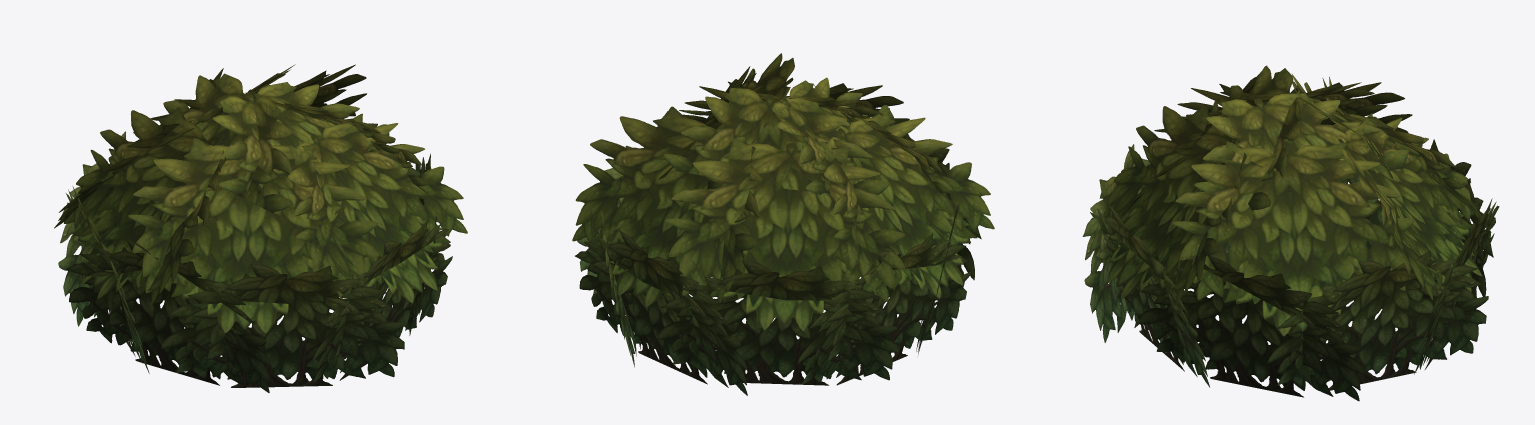
File: mesh_qingming_bush01.FBX
3 renders of one model, left to right at view 1: azimuth 30°, elevation 25°; view 2: azimuth 150°, elevation 25°; view 3: azimuth 270°, elevation 25°, orthographic. The views are drawn at different scales.
Parts seen in each view (by area): view 1: mesh_qingming_bush01; view 2: mesh_qingming_bush01; view 3: mesh_qingming_bush01.
Part boxes in pixels (left/top/right/bottom): mesh_qingming_bush01: left=54, top=64, right=467, bottom=392; mesh_qingming_bush01: left=572, top=53, right=994, bottom=395; mesh_qingming_bush01: left=1082, top=65, right=1499, bottom=401.
Bounding box in the file's own units: 3.07 × 1.68 × 2.84.
